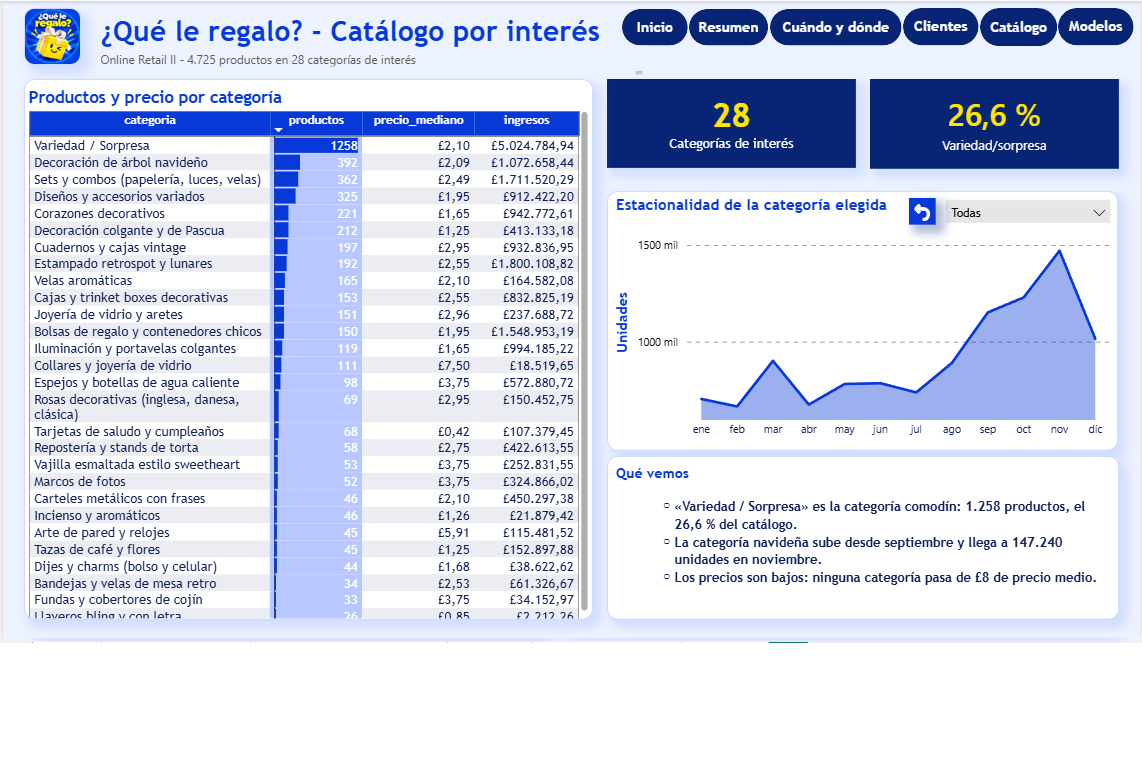

This screenshot's page, from the dashboard's own definition file:
{"tool":"powerbi","page":{"name":"Catálogo por interés","canvas":[1280,720],"ordinal":4},"visuals":[{"type":"areaChart","title":"Estacionalidad de la categoría elegida","fields":{"Category":["categoria_mes.Mes nombre"],"Y":["Sum(categoria_mes.unidades)"]},"box":[680,214.2,575.5,291.6],"z":0},{"type":"image","box":[24,8,64,64],"z":1000},{"type":"textbox","title":"¿Qué le regalo? - Catálogo por interés","box":[104.3,14.3,620,72.9],"z":2000},{"type":"textbox","box":[680,512,576,184],"z":3000},{"type":"actionButton","box":[696,9,74,41],"z":4000},{"type":"actionButton","box":[772,9,89,41],"z":5000},{"type":"actionButton","box":[1099,8,87,43],"z":6000},{"type":"actionButton","box":[863,9,148,41],"z":7000},{"type":"actionButton","box":[1187,8,85,42],"z":8000},{"type":"actionButton","box":[1012,8,85,42],"z":9000},{"type":"cardVisual","fields":{"Data":["categorias.Cantidad de intereses"]},"box":[680,87.7,280,100],"z":10000},{"type":"cardVisual","fields":{"Data":["categorias.Peso de Variedad"]},"box":[975.5,87.7,280,100.6],"z":11000},{"type":"tableEx","title":"Productos y precio por categoría","fields":{"Values":["categorias.categoria","categorias.productos","categorias.precio_mediano","categorias.ingresos"]},"box":[24,88,640,608],"z":12000},{"type":"slicer","fields":{"Values":["categorias.categoria"]},"box":[1050.3,214.2,205.2,46.5],"z":13000},{"type":"actionButton","box":[1019.6,221.6,30.3,30.3],"z":14000}]}

Visuals, with their boxes on the page's 1280x720 design canvas (x1, y1, x2, y2). These are canvas units, not pixel positions in the 1142x768 screenshot, which may show the page scaled, cropped or inside an application window:
"Estacionalidad de la categoría elegida" areaChart: <region>680, 214, 1256, 506</region>
image: <region>24, 8, 88, 72</region>
"¿Qué le regalo? - Catálogo por interés" textbox: <region>104, 14, 724, 87</region>
textbox: <region>680, 512, 1256, 696</region>
actionButton: <region>696, 9, 770, 50</region>
actionButton: <region>772, 9, 861, 50</region>
actionButton: <region>1099, 8, 1186, 51</region>
actionButton: <region>863, 9, 1011, 50</region>
actionButton: <region>1187, 8, 1272, 50</region>
actionButton: <region>1012, 8, 1097, 50</region>
cardVisual - categorias.Cantidad de intereses: <region>680, 88, 960, 188</region>
cardVisual - categorias.Peso de Variedad: <region>976, 88, 1256, 188</region>
"Productos y precio por categoría" tableEx: <region>24, 88, 664, 696</region>
slicer - categorias.categoria: <region>1050, 214, 1256, 261</region>
actionButton: <region>1020, 222, 1050, 252</region>
